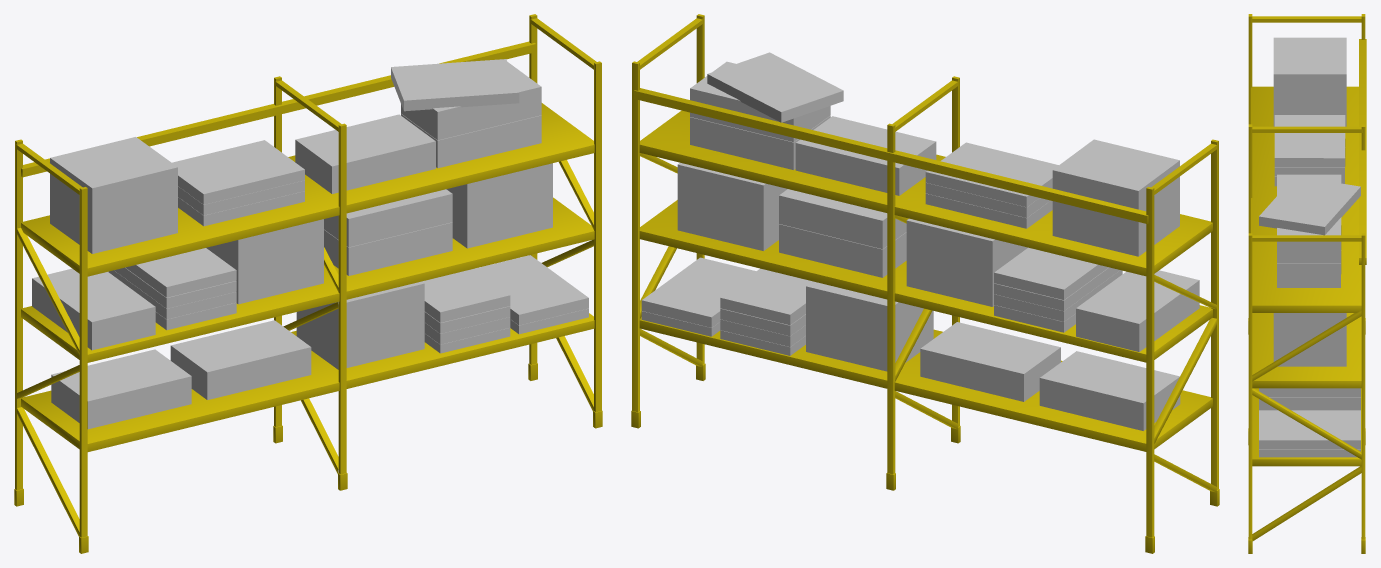
Rendered from ShelfE_01.glb.
3 views of the same model, side by side, from view 1: azimuth 30°, elevation 25°; view 2: azimuth 150°, elevation 25°; view 3: azimuth 270°, elevation 25° (orthographic). The views are drawn at different scales.
Parts seen in each view (by area): view 1: aws_robomaker_warehouse_ShelfE_01_visual; view 2: aws_robomaker_warehouse_ShelfE_01_visual; view 3: aws_robomaker_warehouse_ShelfE_01_visual.
Boxes of the visible parts, x1,y1,x2,y2 form: aws_robomaker_warehouse_ShelfE_01_visual: [14, 14, 602, 553]; aws_robomaker_warehouse_ShelfE_01_visual: [631, 14, 1219, 553]; aws_robomaker_warehouse_ShelfE_01_visual: [1248, 14, 1366, 553].
Bounding box in the file's own units: 3.92 × 2.61 × 0.8795.
Materials: 5 (4 with a texture image).
